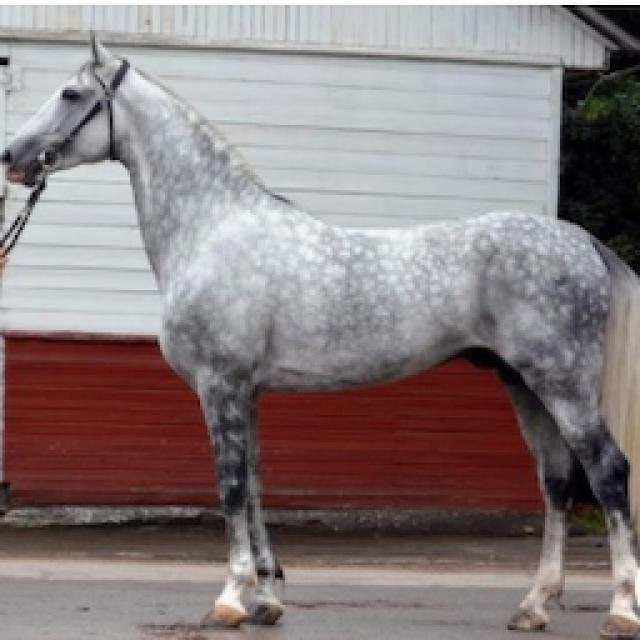Horse: (0, 28, 638, 638)
